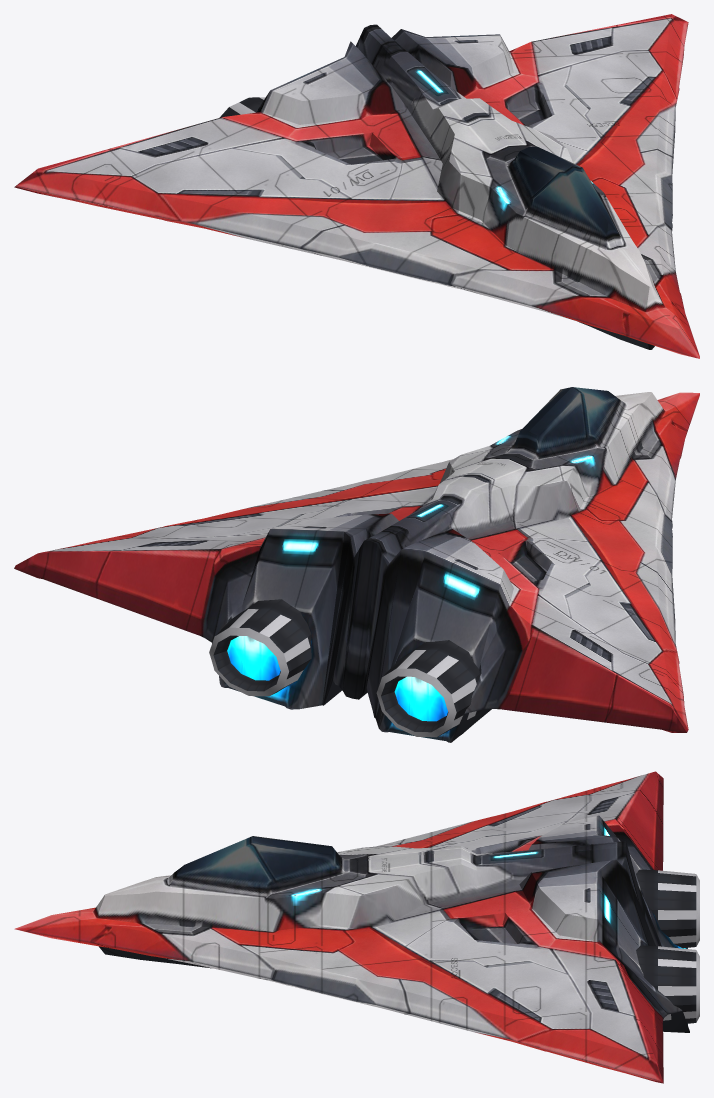
The model's file is triangle-spaceship.glb.
3 renders of one model, top to bottom at view 1: azimuth 30°, elevation 25°; view 2: azimuth 150°, elevation 25°; view 3: azimuth 270°, elevation 25°, orthographic. The views are drawn at different scales.
Parts seen in each view (by area): view 1: triangle-spaceship; view 2: triangle-spaceship; view 3: triangle-spaceship.
Part boxes in pixels (bbox=[...]): triangle-spaceship: bbox=[14, 14, 699, 358]; triangle-spaceship: bbox=[14, 387, 699, 742]; triangle-spaceship: bbox=[14, 771, 699, 1083].
Bounding box in the file's own units: 3.95 × 0.905 × 3.75.
1 material, 1 textured.
